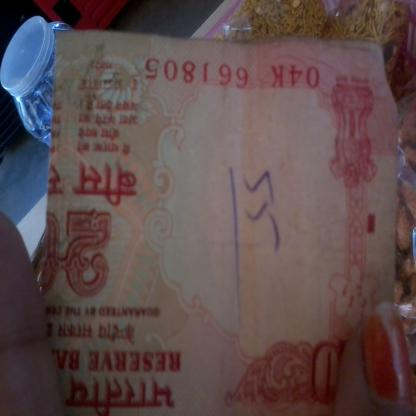Old20Front: (52, 37, 356, 415)
